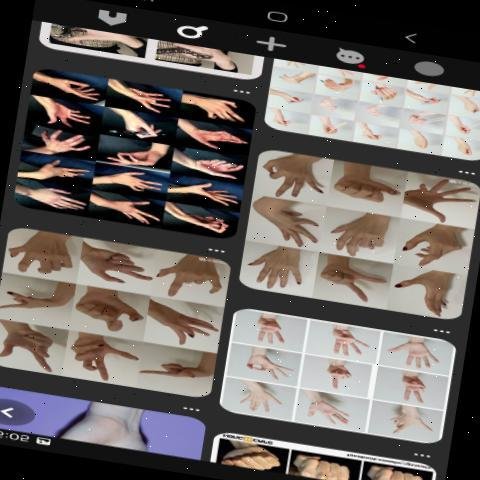Hands: (149, 300, 235, 344), (253, 197, 322, 248), (75, 333, 140, 381), (3, 239, 81, 273), (246, 250, 312, 289), (300, 390, 364, 430), (84, 250, 156, 284), (36, 77, 111, 108), (32, 98, 108, 128), (336, 222, 404, 254), (179, 122, 250, 151), (180, 174, 251, 203), (384, 337, 446, 370), (114, 82, 180, 111), (16, 184, 90, 209), (21, 158, 92, 183), (101, 169, 177, 192), (96, 198, 168, 221), (318, 339, 378, 358)
